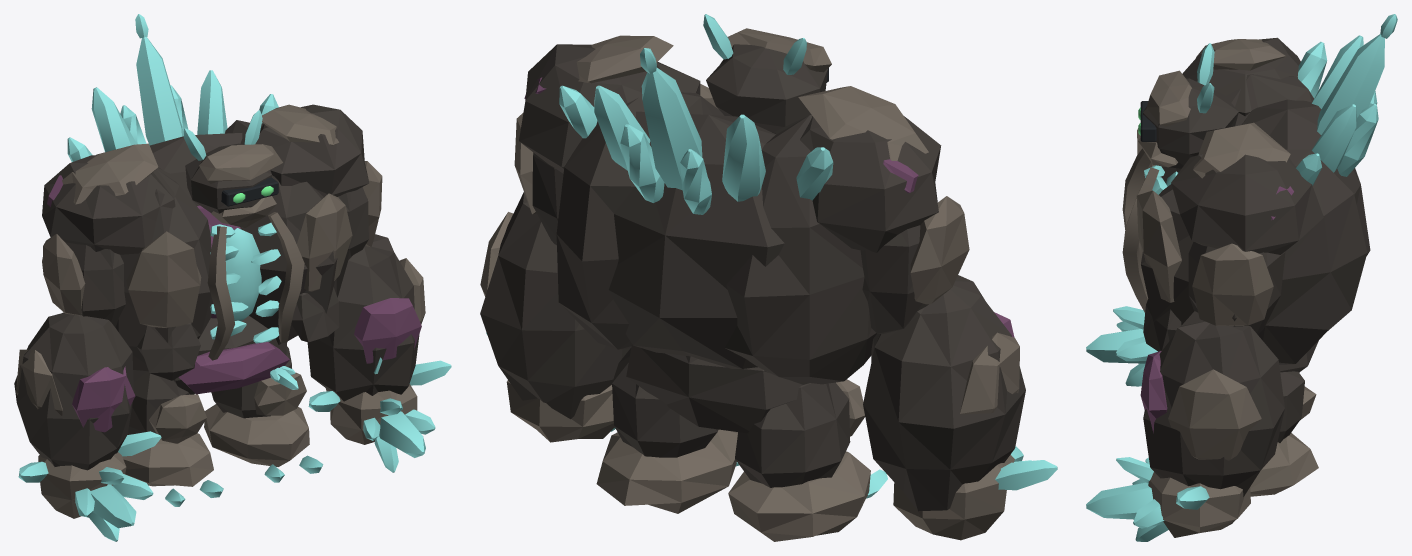
The model's file is Monster_GeodeGolem.fbx.
3 renders of one model, left to right at view 1: azimuth 30°, elevation 25°; view 2: azimuth 150°, elevation 25°; view 3: azimuth 270°, elevation 25°, orthographic. The views are drawn at different scales.
Parts seen in each view (by area): view 1: Chest, RightForearm, LeftForearm, RightLeg, LeftLeg, Head, RightArm, Body, ChestGlow, LeftArm; view 2: Chest, RightForearm, LeftForearm, RightLeg, LeftLeg, Head, RightArm, Body, LeftArm; view 3: Chest, LeftForearm, LeftArm, Head, LeftLeg, RightForearm, Body.
Boxes of the visible parts, box(x1,y1,x2,y2) form: Chest: box(42, 36, 369, 380); RightForearm: box(14, 312, 161, 541); LeftForearm: box(307, 234, 451, 472); RightLeg: box(122, 370, 223, 506); LeftLeg: box(204, 346, 323, 482); Head: box(183, 110, 282, 227); RightArm: box(42, 234, 125, 327); Body: box(173, 316, 298, 394); ChestGlow: box(135, 14, 261, 321); LeftArm: box(337, 161, 382, 268); Chest: box(519, 35, 941, 384); RightForearm: box(863, 275, 1057, 540); LeftForearm: box(480, 192, 630, 442); RightLeg: box(728, 379, 887, 541); LeftLeg: box(596, 348, 739, 513); Head: box(703, 14, 831, 133); RightArm: box(860, 196, 969, 333); Body: box(626, 344, 809, 433); LeftArm: box(514, 112, 563, 245); Chest: box(1122, 34, 1384, 364); LeftForearm: box(1086, 311, 1284, 541); LeftArm: box(1188, 241, 1285, 334); Head: box(1138, 43, 1238, 168); LeftLeg: box(1145, 371, 1318, 496); RightForearm: box(1086, 306, 1157, 386); Body: box(1141, 340, 1318, 375).
Bounding box in the file's own units: 10.43 × 9.4 × 5.87.
